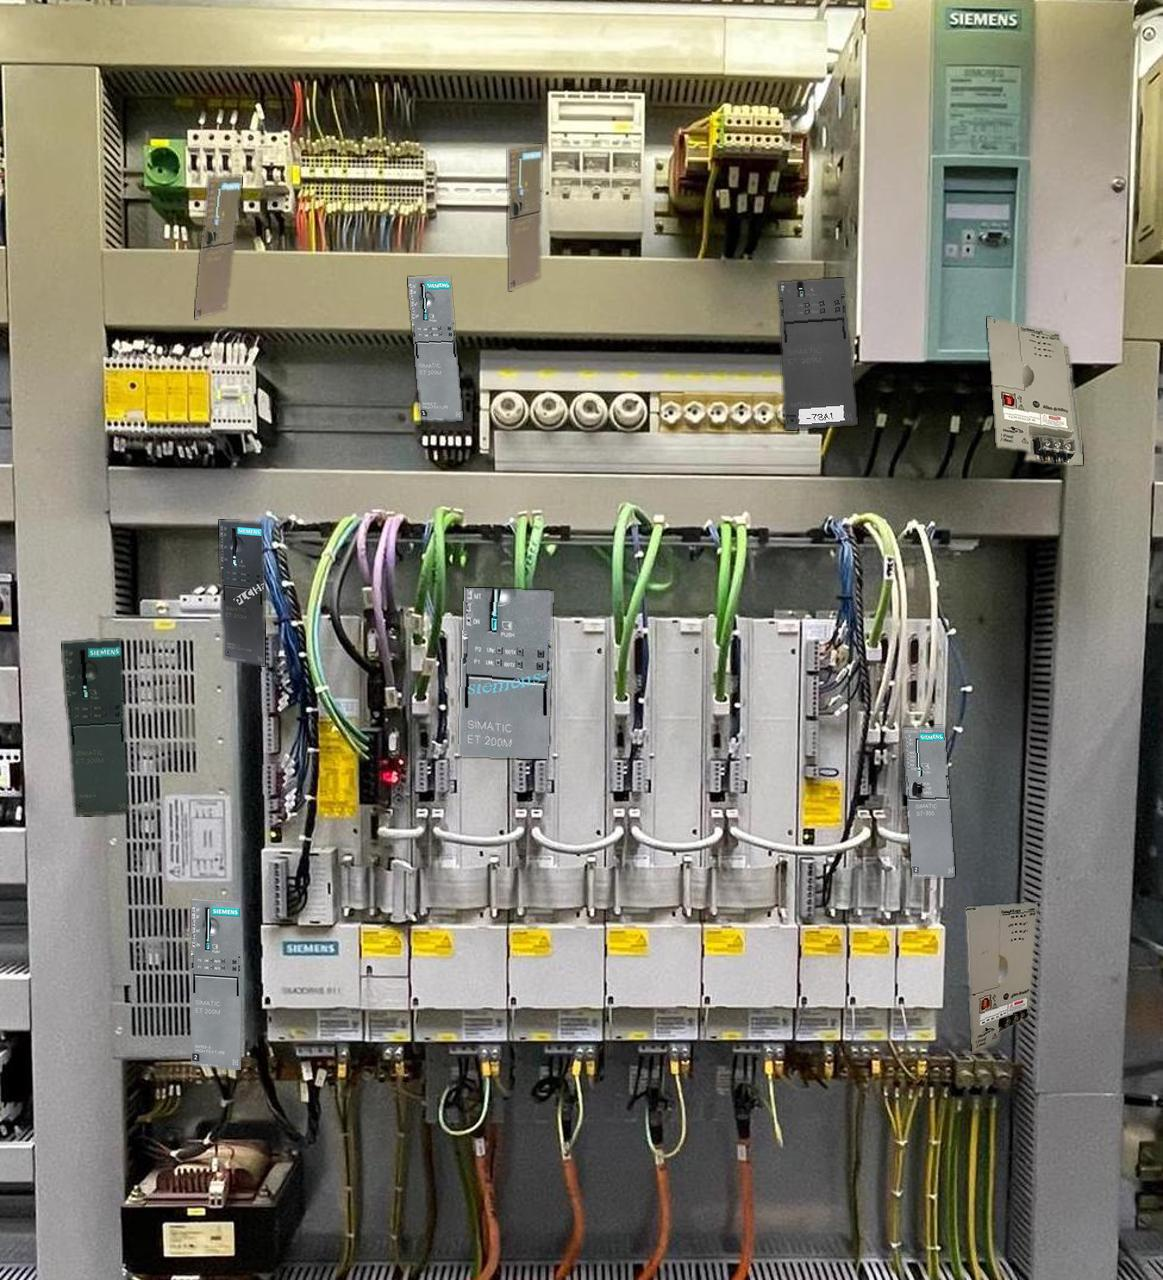AllenBradley: (987, 317, 1082, 464), (966, 902, 1037, 1053)
Siemens: (903, 726, 954, 877), (195, 176, 241, 318), (508, 144, 541, 290)
